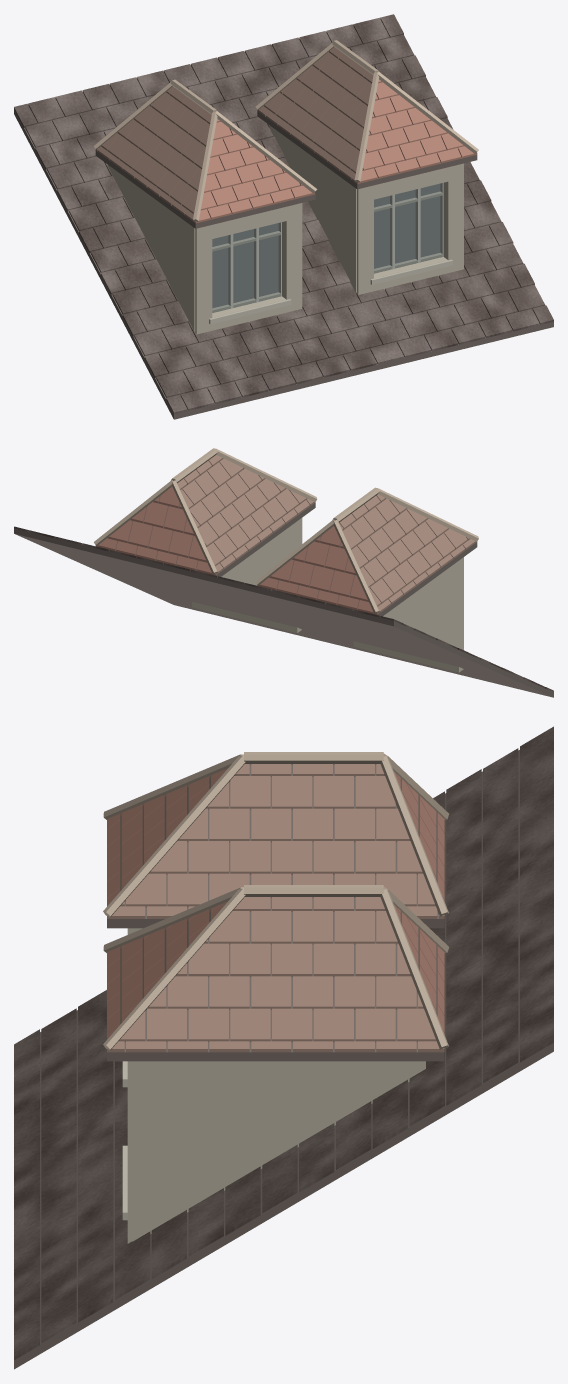
File: baoding-road-twin-hipped-dormers-far.glb
The picture shows the model from 3 angles, top to bottom: view 1: azimuth 30°, elevation 25°; view 2: azimuth 150°, elevation 25°; view 3: azimuth 270°, elevation 25°; orthographic projection. The views are drawn at different scales.
Parts seen in each view (by area): view 1: 保定路410至448号住宅成对老虎窗与瓦顶斜脊; view 2: 保定路410至448号住宅成对老虎窗与瓦顶斜脊; view 3: 保定路410至448号住宅成对老虎窗与瓦顶斜脊.
Boxes of the visible parts, bbox=[...] form: 保定路410至448号住宅成对老虎窗与瓦顶斜脊: bbox=[14, 14, 553, 419]; 保定路410至448号住宅成对老虎窗与瓦顶斜脊: bbox=[14, 448, 553, 697]; 保定路410至448号住宅成对老虎窗与瓦顶斜脊: bbox=[14, 726, 553, 1369].
Size of the model in its own units: 3.62 by 2.12 by 2.64.
Materials: 10 (1 with a texture image).
